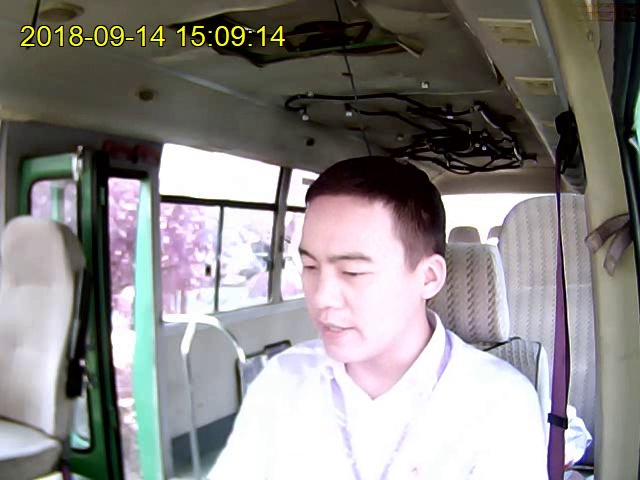closed_mouth: (314, 316, 355, 342)
